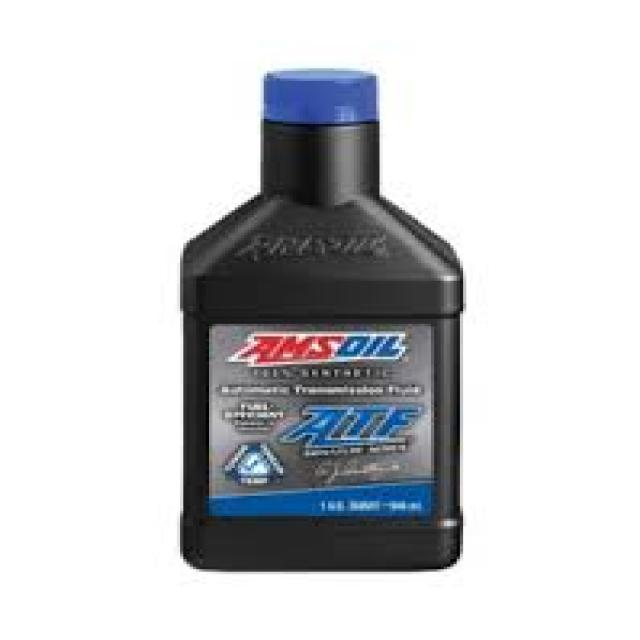-oil-: (161, 59, 468, 580)
